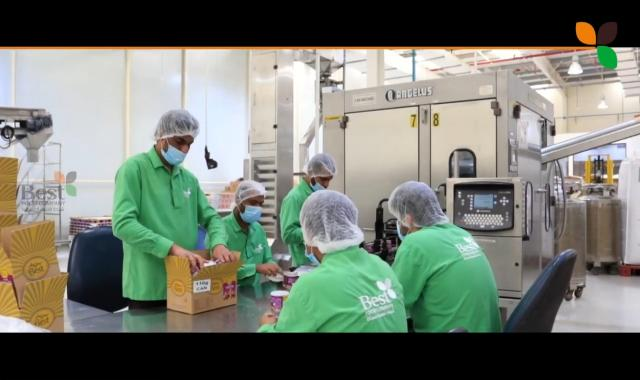hairnet: (299, 190, 363, 257), (389, 180, 449, 232), (150, 108, 198, 148), (303, 150, 335, 186), (233, 180, 265, 210)
